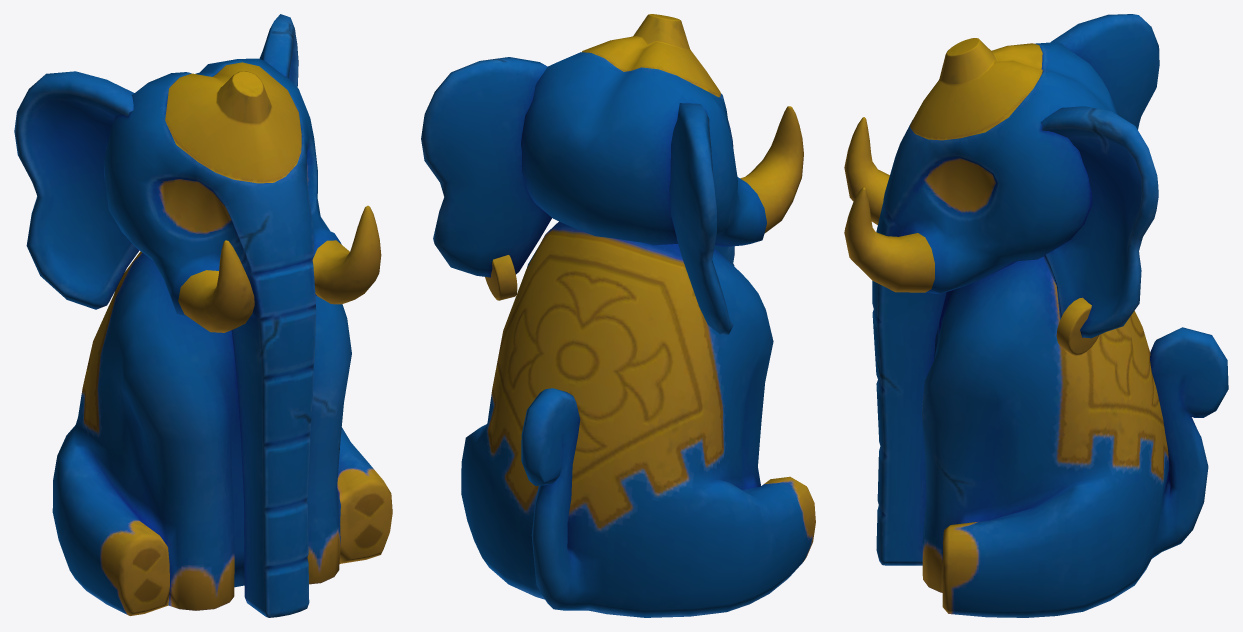
The model's file is Elefante.obj.
3 renders of one model, left to right at view 1: azimuth 30°, elevation 25°; view 2: azimuth 150°, elevation 25°; view 3: azimuth 270°, elevation 25°, orthographic. The views are drawn at different scales.
Parts seen in each view (by area): view 1: StatueL003__MI_StatueL003_00; view 2: StatueL003__MI_StatueL003_00; view 3: StatueL003__MI_StatueL003_00.
Boxes of the visible parts, left/top/right/bottom form: StatueL003__MI_StatueL003_00: left=14, top=14, right=392, bottom=617; StatueL003__MI_StatueL003_00: left=421, top=14, right=815, bottom=617; StatueL003__MI_StatueL003_00: left=844, top=14, right=1228, bottom=617.
Size of the model in its own units: 1.38 by 2.34 by 1.58.
